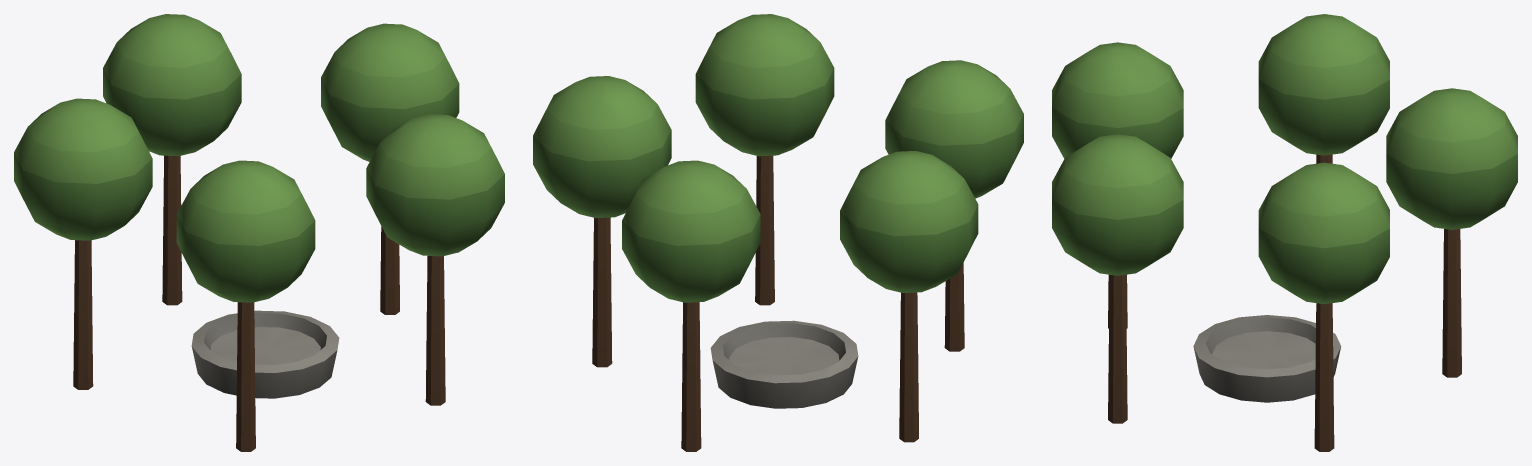
The model's file is landmark_temperate.glb.
The picture shows the model from 3 angles, left to right: view 1: azimuth 30°, elevation 25°; view 2: azimuth 150°, elevation 25°; view 3: azimuth 270°, elevation 25°; orthographic projection.
Parts seen in each view (by area): view 1: landmark_temperate; view 2: landmark_temperate; view 3: landmark_temperate.
Boxes of the visible parts, <box> form: landmark_temperate: <box>14,14,504,451</box>; landmark_temperate: <box>533,14,1023,451</box>; landmark_temperate: <box>1052,14,1517,451</box>.
Size of the model in its own units: 7.95 by 5 by 7.56.
